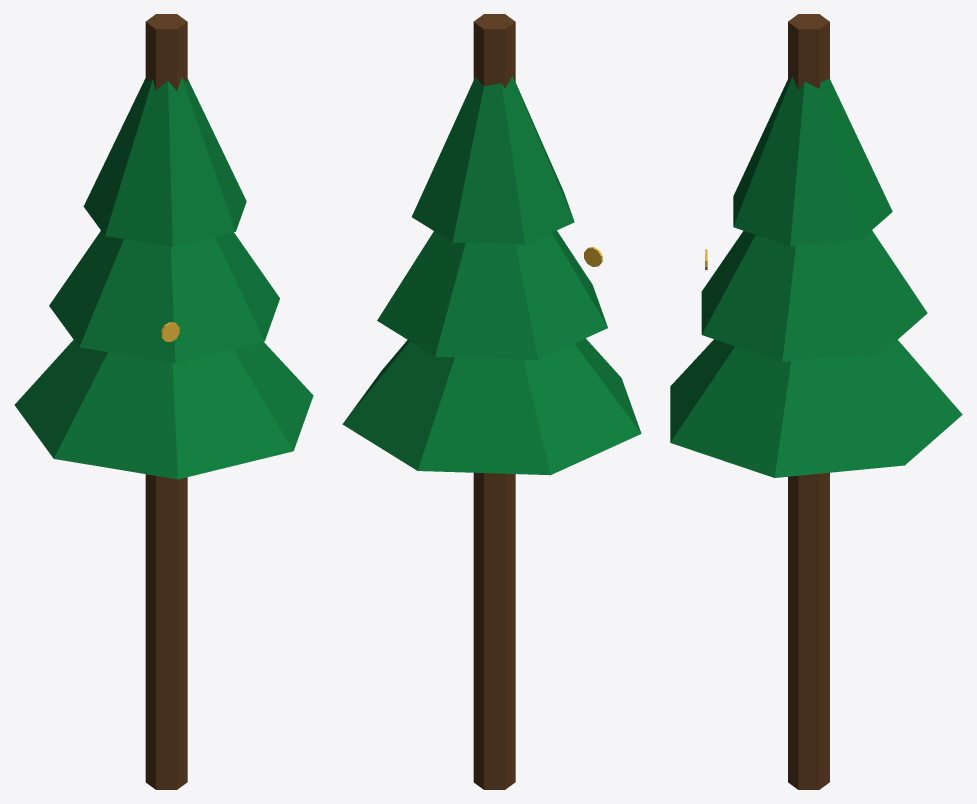
The model's file is Prop_OR_LedgerTree_22.glb.
3 views of the same model, side by side, from view 1: azimuth 30°, elevation 25°; view 2: azimuth 150°, elevation 25°; view 3: azimuth 270°, elevation 25° (orthographic).
Parts seen in each view (by area): view 1: Prop_OR_LedgerTree_22; view 2: Prop_OR_LedgerTree_22; view 3: Prop_OR_LedgerTree_22.
Part boxes in pixels (x1,y1,x2,y2): Prop_OR_LedgerTree_22: (14, 14, 313, 789); Prop_OR_LedgerTree_22: (342, 14, 641, 789); Prop_OR_LedgerTree_22: (670, 14, 962, 789).
Bounding box in the file's own units: 2.14 × 6 × 2.09.
